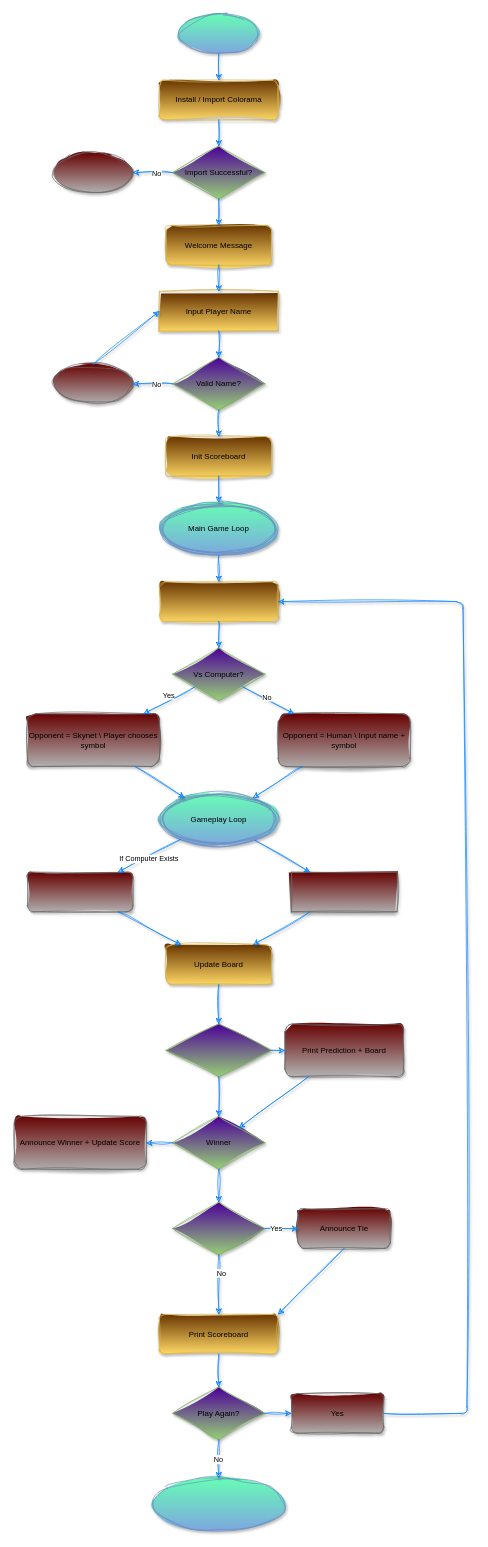
This 488x1547 diagram has some shape labels left out. The centre of each missing label's shape, as x and y in pixels:
"Computer Move" goes at [80,892].
"Error" goes at [93,384].
"Error - Exit" goes at [93,173].
"Exit - Goodbye Message" goes at [219,1505].
"Human Move" goes at [344,892].
"Player Selection" goes at [219,602].
"Predict Winning Move" goes at [219,1051].
"Start" goes at [219,34].
"Tie?" goes at [219,1229].
